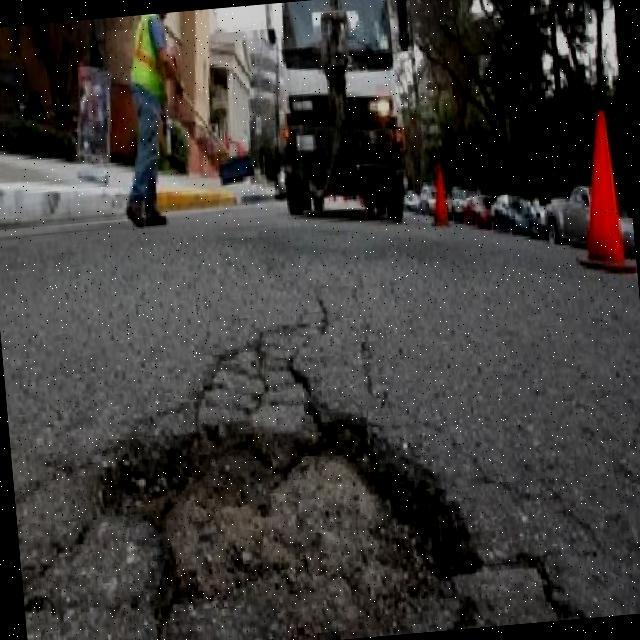Pothole: (108, 417, 481, 640)
